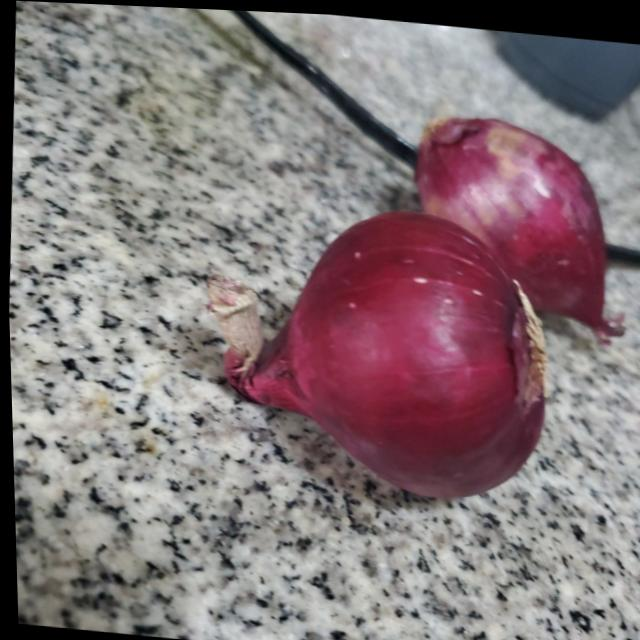onion: (226, 193, 555, 500), (403, 103, 636, 344)
